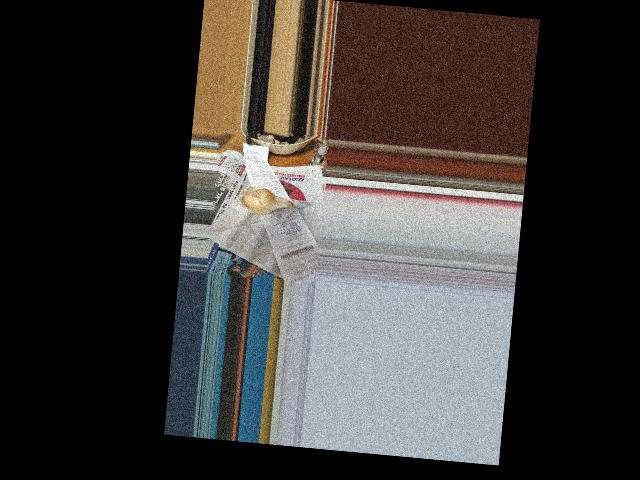onion: (241, 188, 281, 215)
